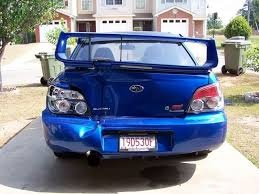Broken-glass: (46, 84, 92, 115)
Dent: (95, 76, 122, 119), (78, 122, 99, 139)
